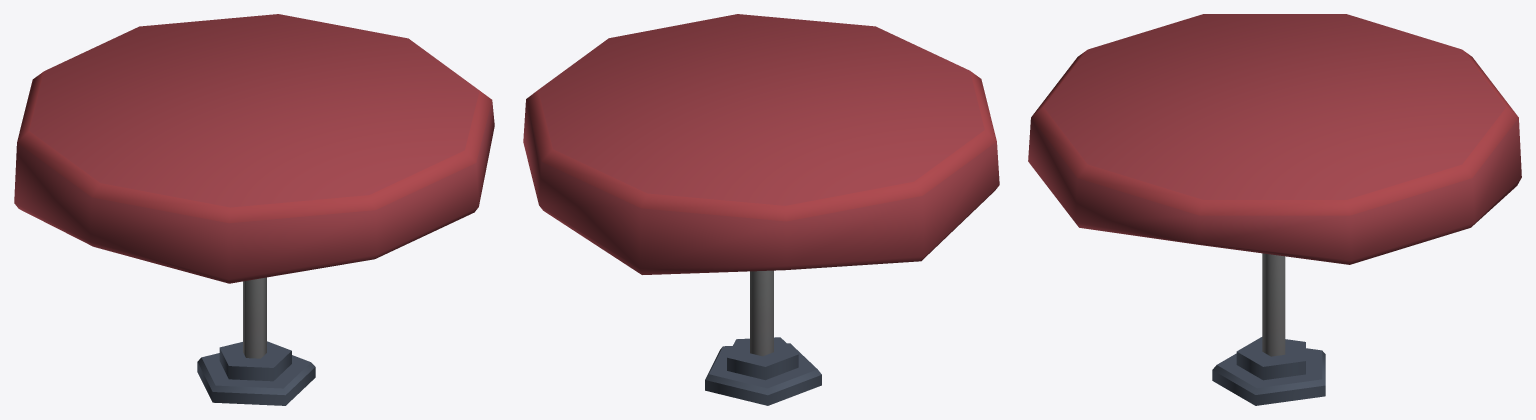
The model's file is Table_1_H.fbx.
3 renders of one model, left to right at view 1: azimuth 30°, elevation 25°; view 2: azimuth 150°, elevation 25°; view 3: azimuth 270°, elevation 25°, orthographic.
Parts seen in each view (by area): view 1: Table_1_H; view 2: Table_1_H; view 3: Table_1_H.
Part boxes in pixels (x1,y1,x2,y2): Table_1_H: (14,14,494,405); Table_1_H: (523,14,999,405); Table_1_H: (1028,14,1521,405).
Bounding box in the file's own units: 134 × 86.3 × 141.
